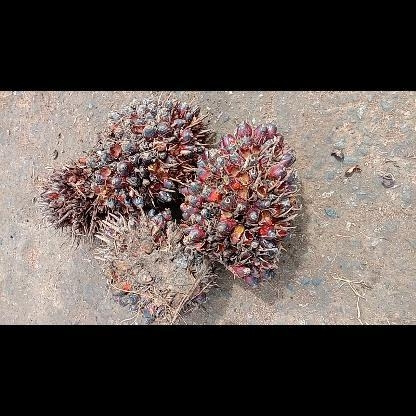TBS abnormal: (181, 119, 304, 288), (94, 208, 220, 324), (87, 91, 211, 207), (34, 158, 144, 244)
